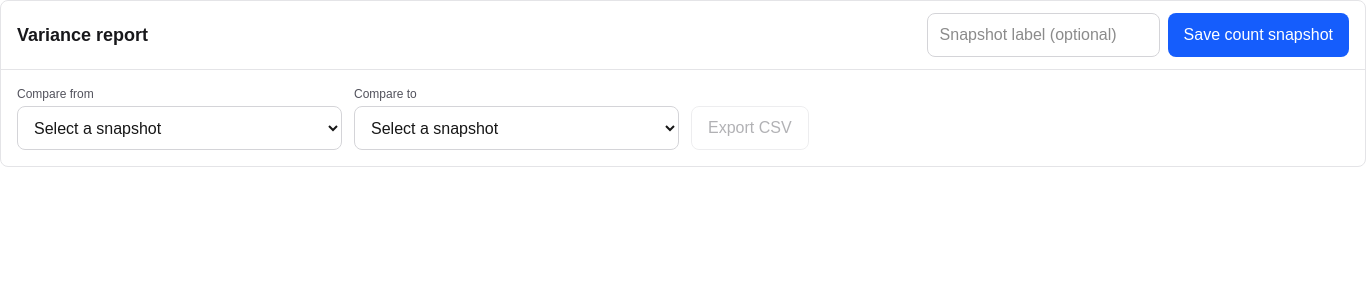
it: VarianceReport - compare view › populates both dropdowns from countSnapshots and renders variance rows once two are selected
Step 1. Select "Morning count (7/12/2026, 8:00:00 AM)" in the dropdown labelled "Compare from" → (180, 128), box [17,106,342,150]
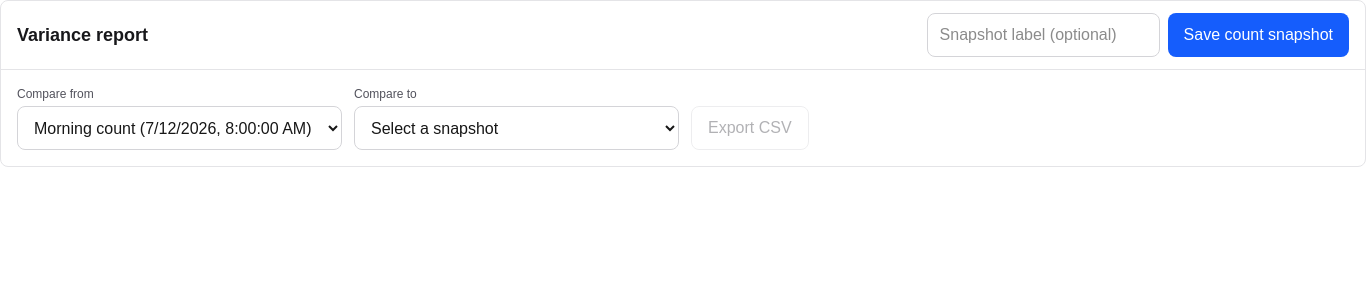
Step 2. Select "Evening count (7/12/2026, 6:00:00 PM)" in the dropdown labelled "Compare to" → (516, 128), box [354,106,679,150]
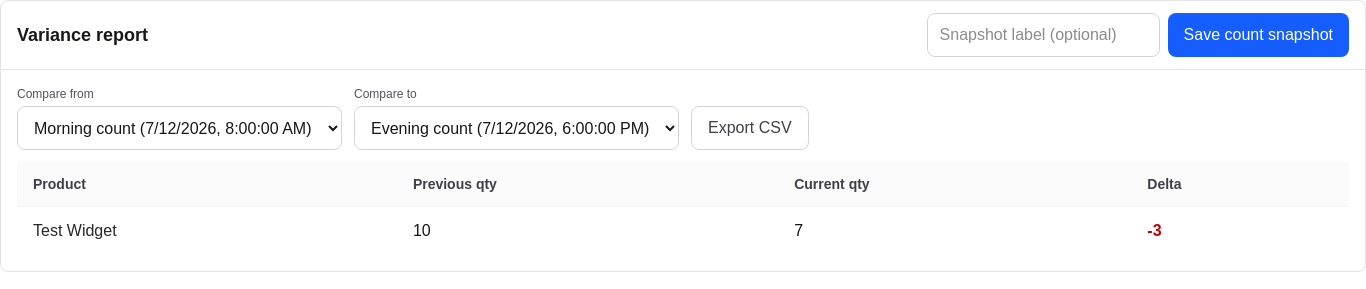
expect the table with test id "variance-table" is shown: met, box [17,162,1349,255]
expect the text "Test Widget" is shown: met, box [17,206,397,255]
expect the text "10" is shown: met, box [397,206,778,255]
